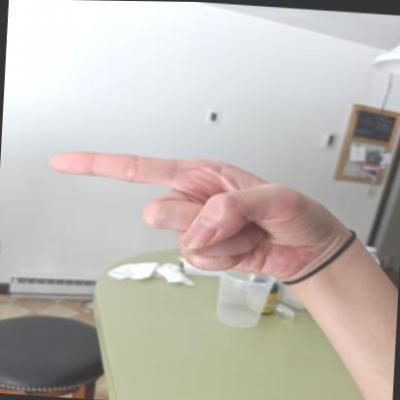hand: (40, 144, 348, 287)
